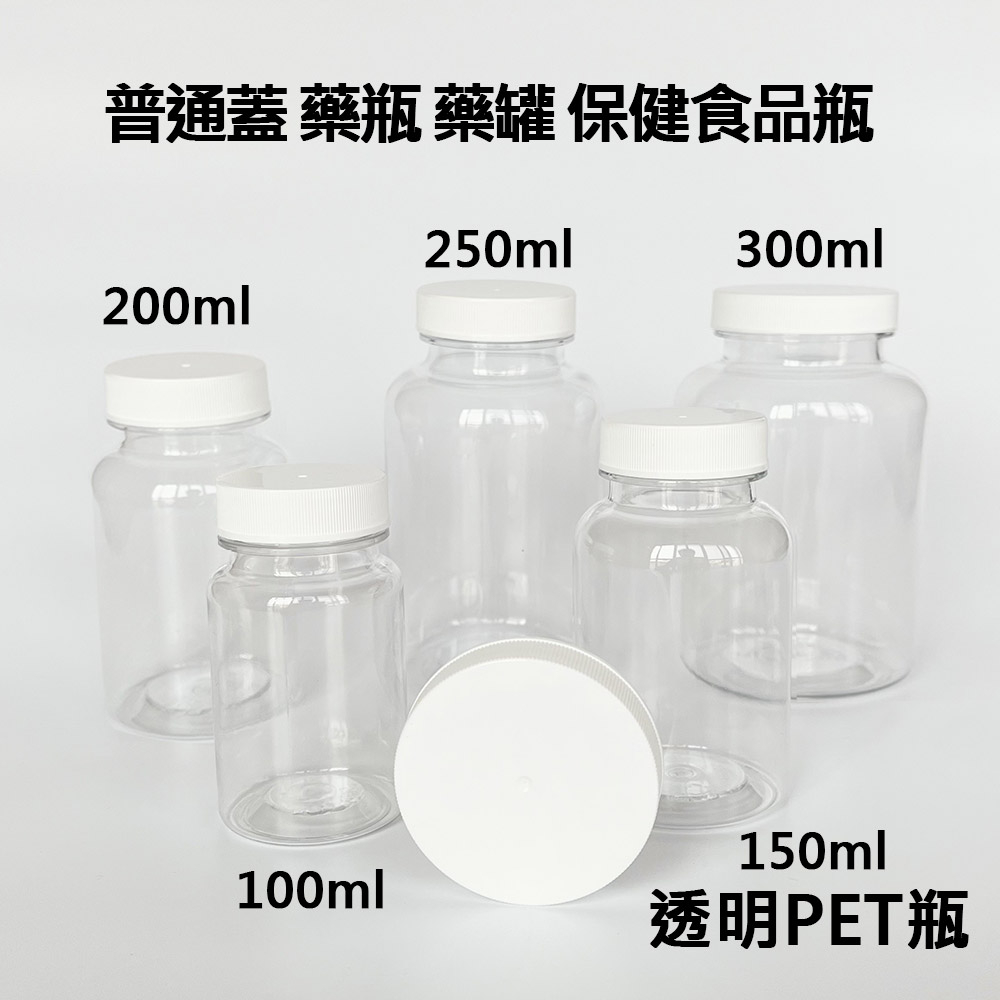medicinejar: (702, 275, 947, 720), (591, 400, 806, 853), (401, 285, 619, 707), (212, 472, 437, 862), (91, 350, 306, 745)
